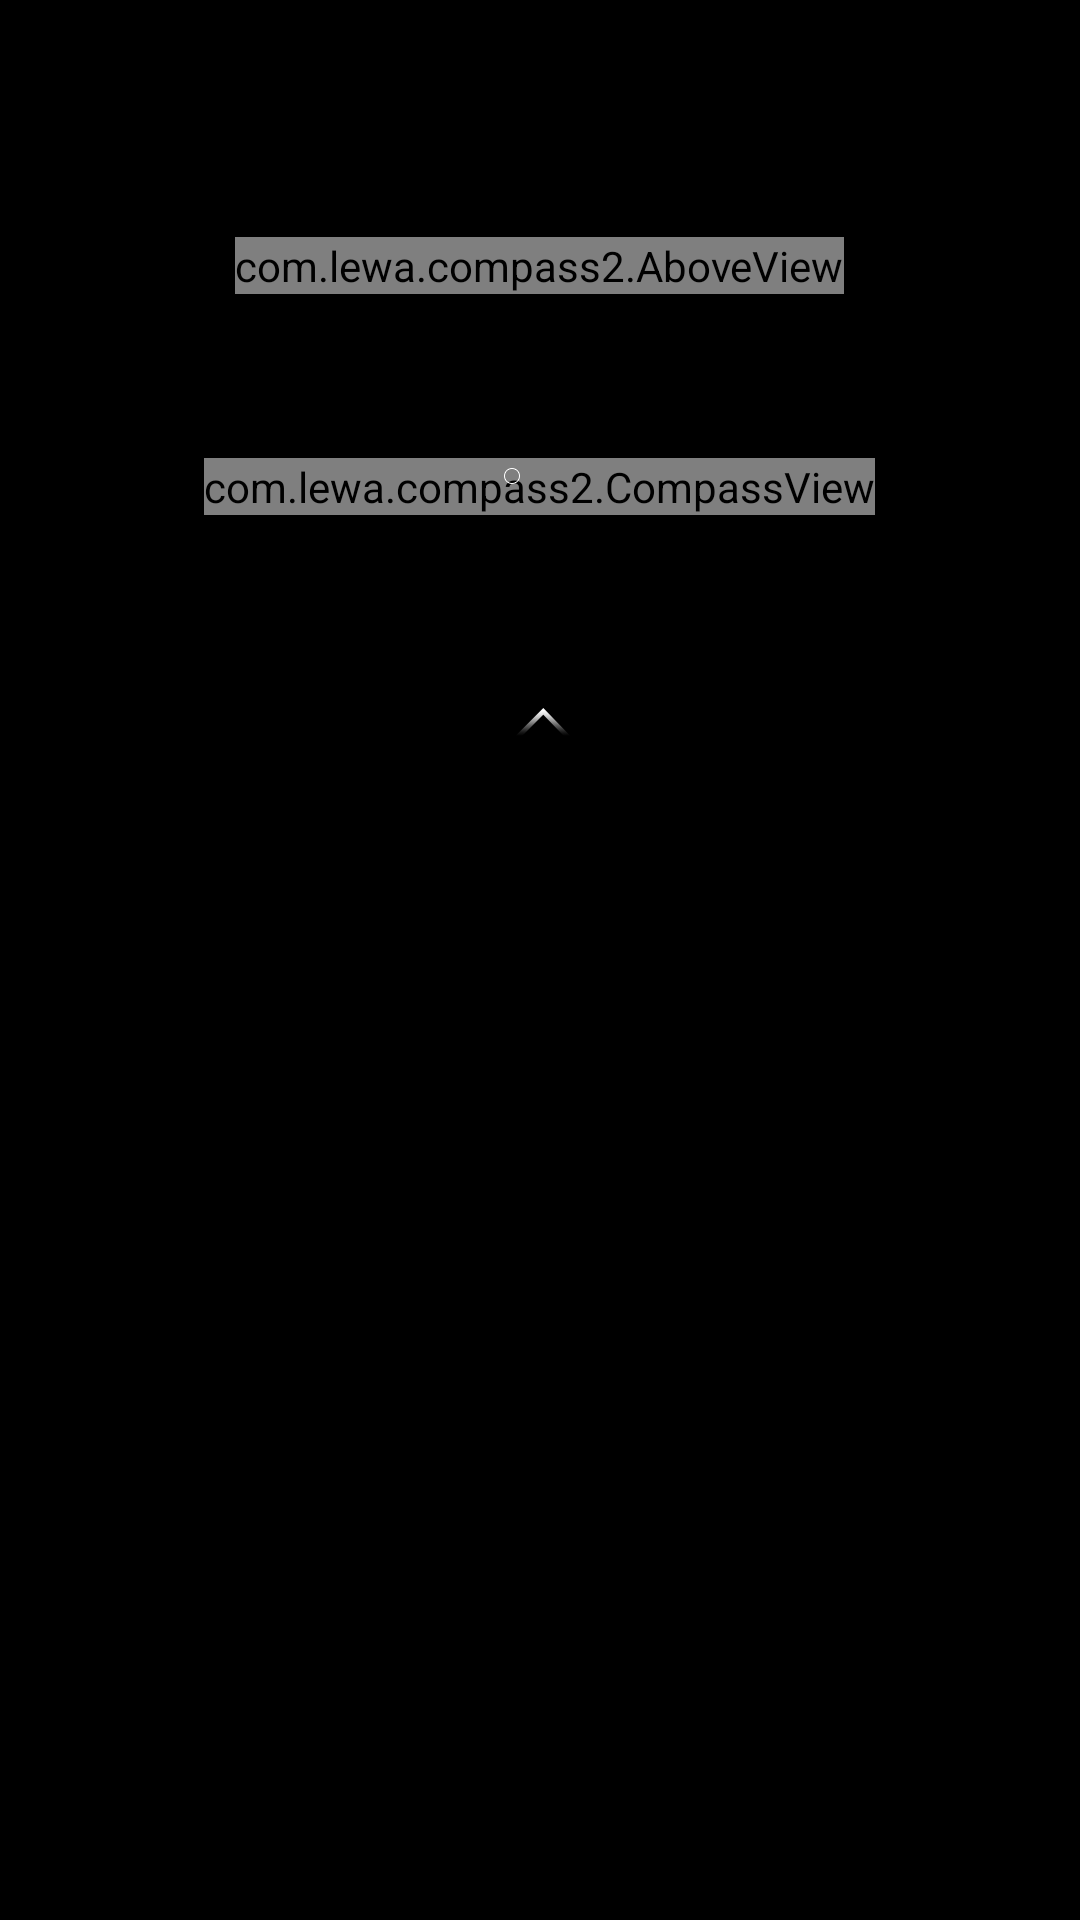

Icons on this 1080px×1920px Android screen, each with the point to tap as (x=x, y=y):
arrow: (x=543, y=720)
